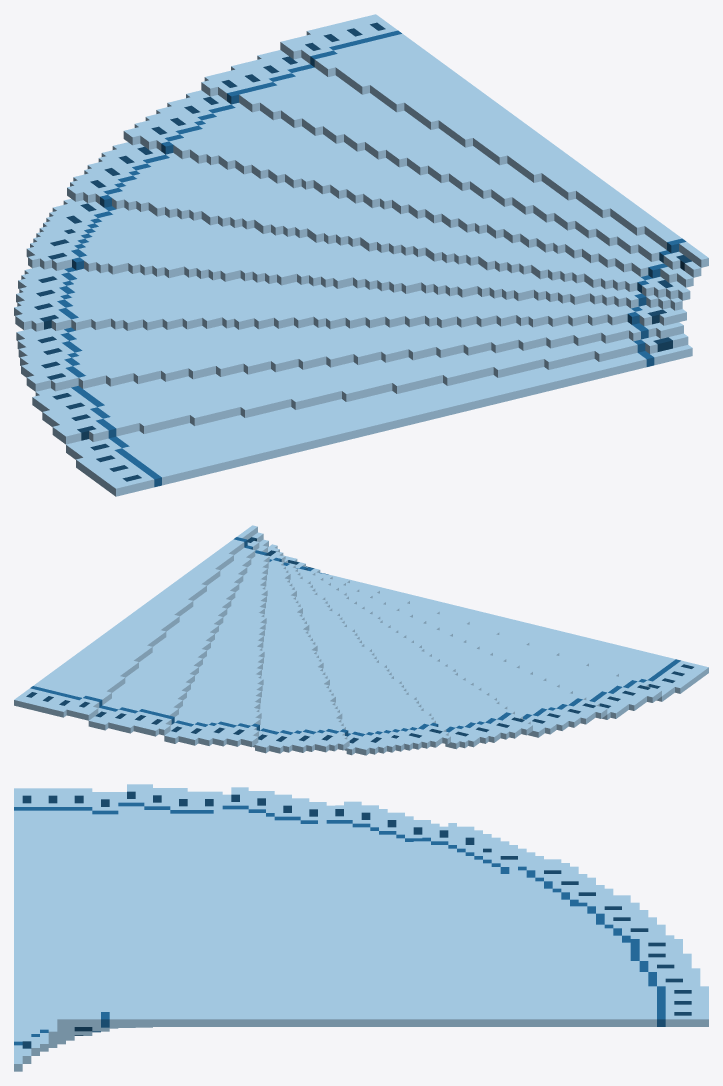
The model's file is Incline_90_right-0.obj.
The picture shows the model from 3 angles, top to bottom: view 1: azimuth 30°, elevation 25°; view 2: azimuth 150°, elevation 25°; view 3: azimuth 270°, elevation 25°; orthographic projection. The views are drawn at different scales.
Parts seen in each view (by area): view 1: Incline_90_right-0; view 2: Incline_90_right-0; view 3: Incline_90_right-0.
Part boxes in pixels (x1,y1,x2,y2): Incline_90_right-0: [14, 14, 708, 496]; Incline_90_right-0: [14, 525, 708, 755]; Incline_90_right-0: [14, 784, 708, 1071].
Bounding box in the file's own units: 80 × 9 × 80.
Materials: 1 (1 with a texture image).
